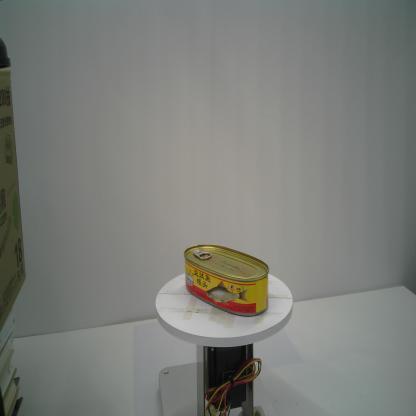Canned Food: (184, 244, 270, 317)
